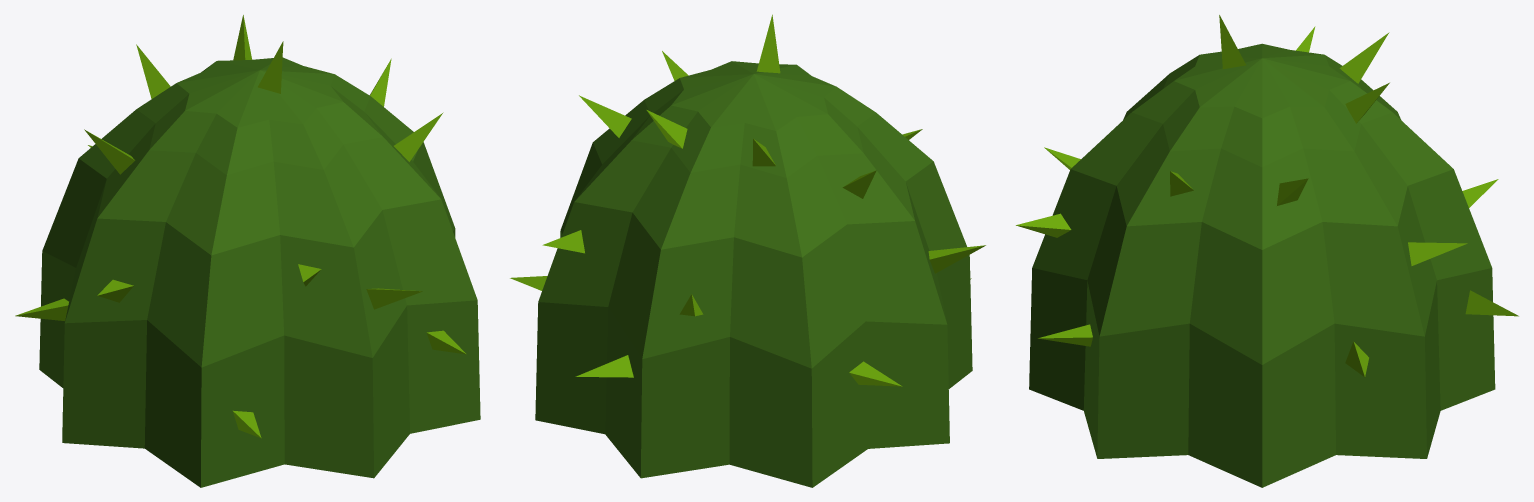
The model's file is Cactus_26_B.fbx.
The picture shows the model from 3 angles, left to right: view 1: azimuth 30°, elevation 25°; view 2: azimuth 150°, elevation 25°; view 3: azimuth 270°, elevation 25°; orthographic projection. The views are drawn at different scales.
Visible parts, largest first — view 1: Cactus_26_B; view 2: Cactus_26_B; view 3: Cactus_26_B.
Boxes of the visible parts, box(x1,y1,x2,y2) form: Cactus_26_B: box(15, 15, 480, 487); Cactus_26_B: box(510, 14, 985, 487); Cactus_26_B: box(1016, 15, 1518, 487).
Bounding box in the file's own units: 114 × 102 × 124.
